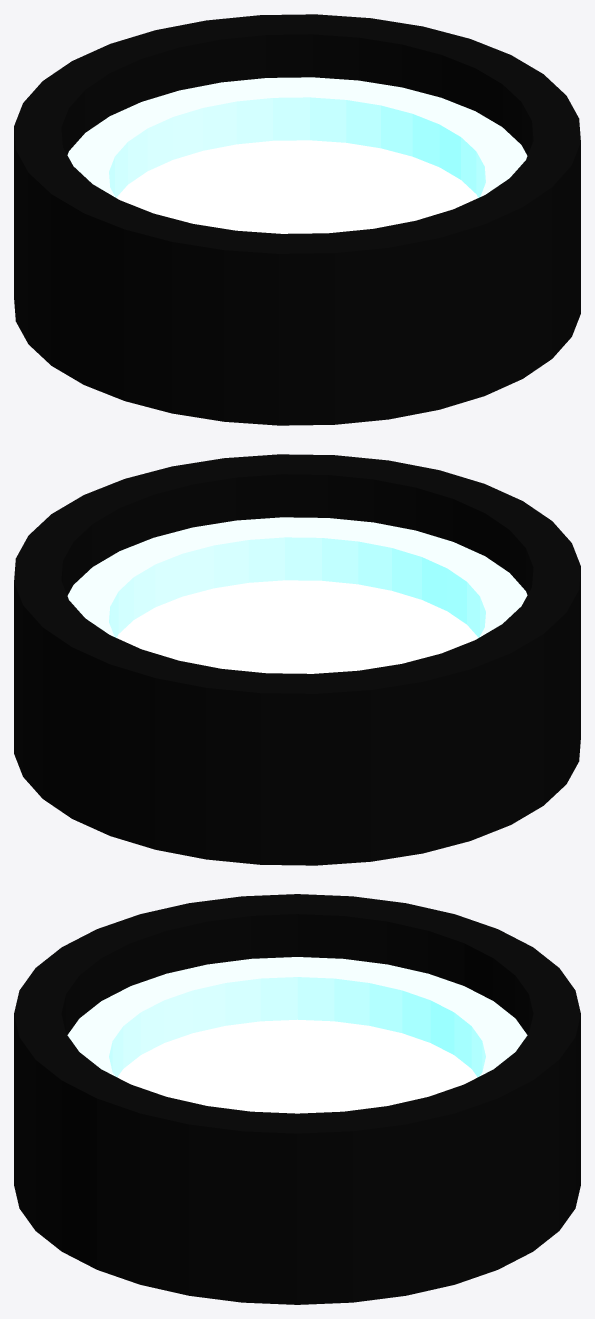
Rendered from mine.glb.
3 views of the same model, one above another, from view 1: azimuth 30°, elevation 25°; view 2: azimuth 150°, elevation 25°; view 3: azimuth 270°, elevation 25° (orthographic).
Parts seen in each view (by area): view 1: Cylinder.001; view 2: Cylinder.001; view 3: Cylinder.001.
Part boxes in pixels (x1=…): Cylinder.001: x1=14, y1=14, x2=580, y2=425; Cylinder.001: x1=14, y1=454, x2=580, y2=865; Cylinder.001: x1=14, y1=894, x2=580, y2=1304.
Size of the model in its own units: 12 by 4 by 12.
